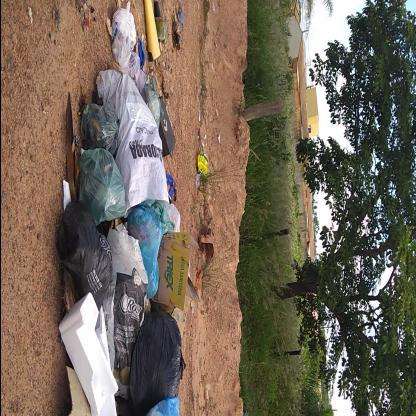lixo: (46, 96, 197, 415)
